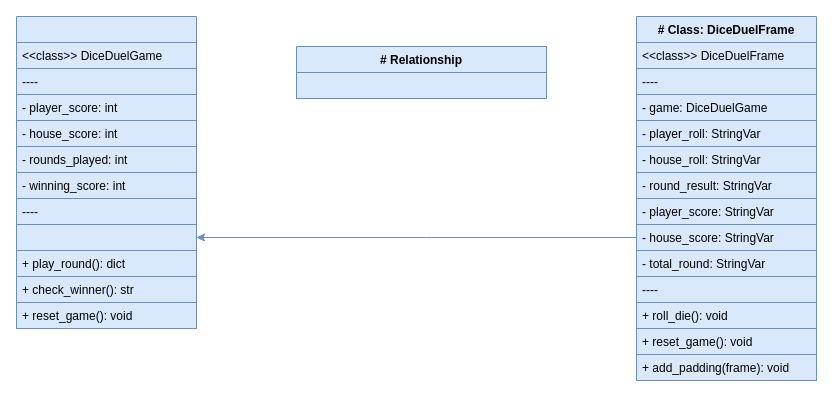
The diagram is 833 pixels wide and 397 high, and some of its shapes have lost their labels. The shapes that lost their labels are listed below. From the top down, each one's box as (x1, y1, x2, y2) in pixels, then its label:
(296, 72, 546, 98): DiceDuelFrame --> DiceDuelGame : uses
(16, 16, 196, 328): # Class: DiceDuelGame
(16, 224, 196, 250): + roll_die(): int
